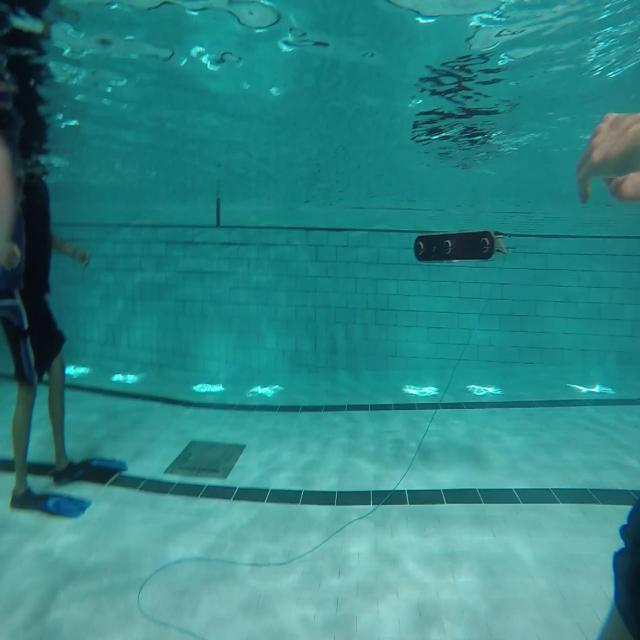human: (15, 154, 91, 484), (575, 109, 639, 206)
